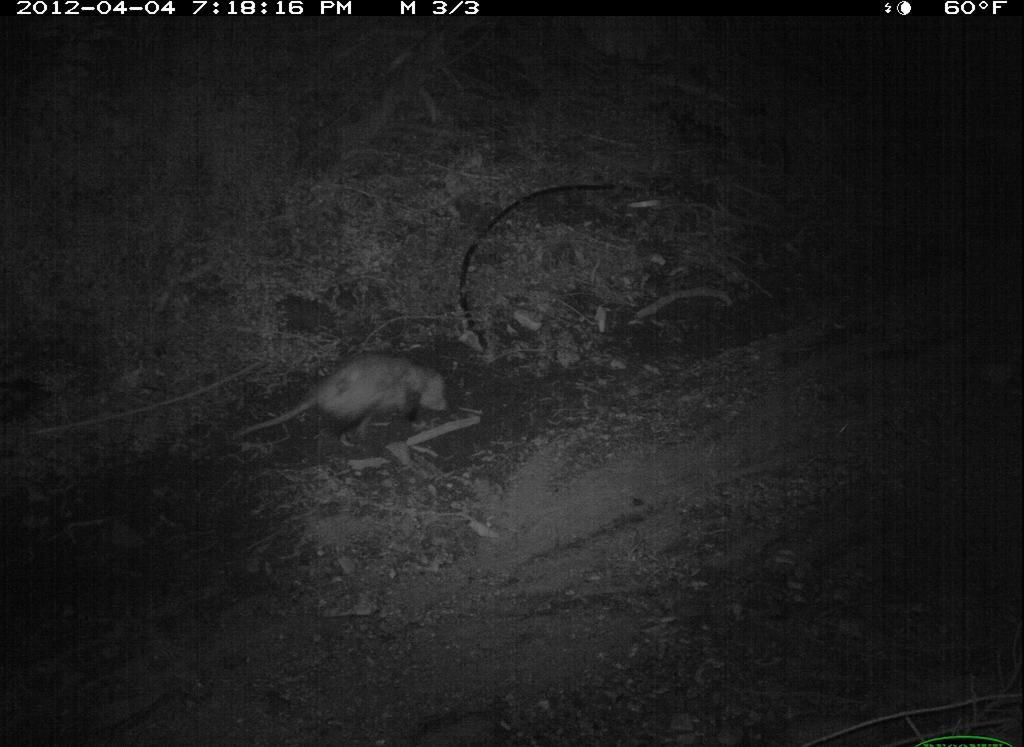opossum: (237, 353, 457, 446)
